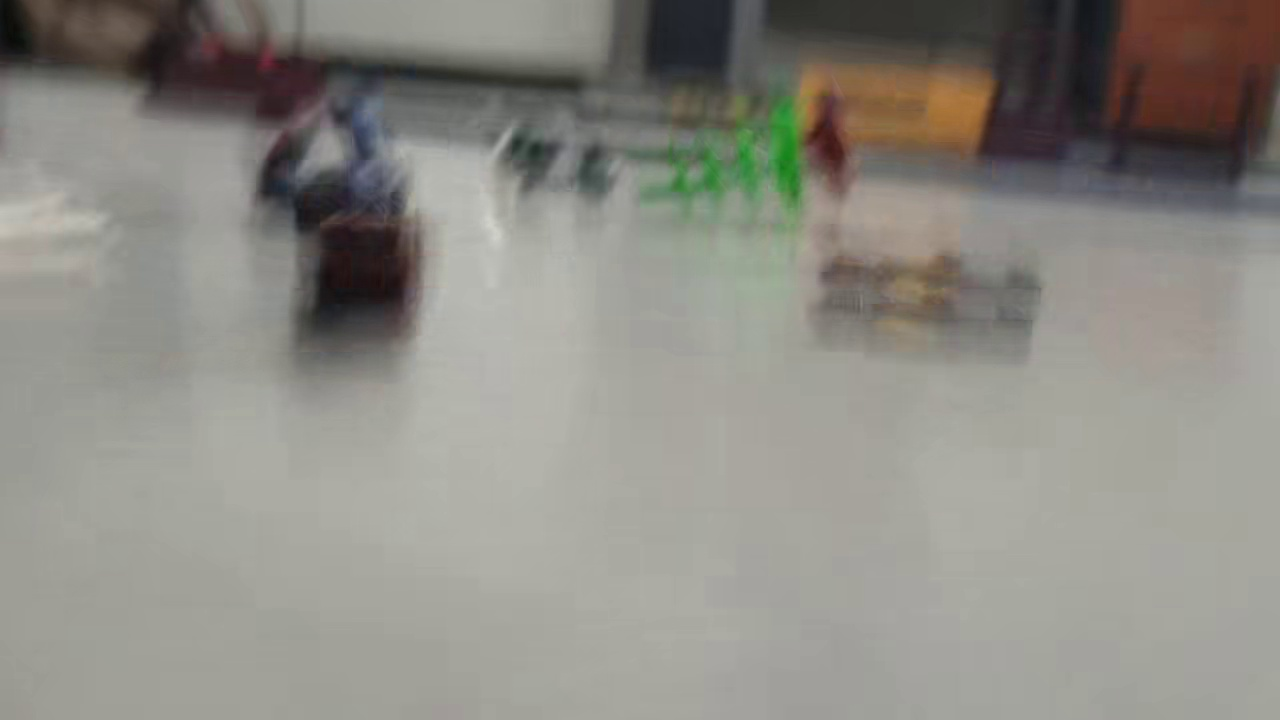box: (294, 200, 429, 346)
people: (813, 241, 1047, 348), (246, 91, 416, 228), (485, 124, 628, 200)
tree: (645, 83, 853, 212)
web: (1, 185, 118, 267)
